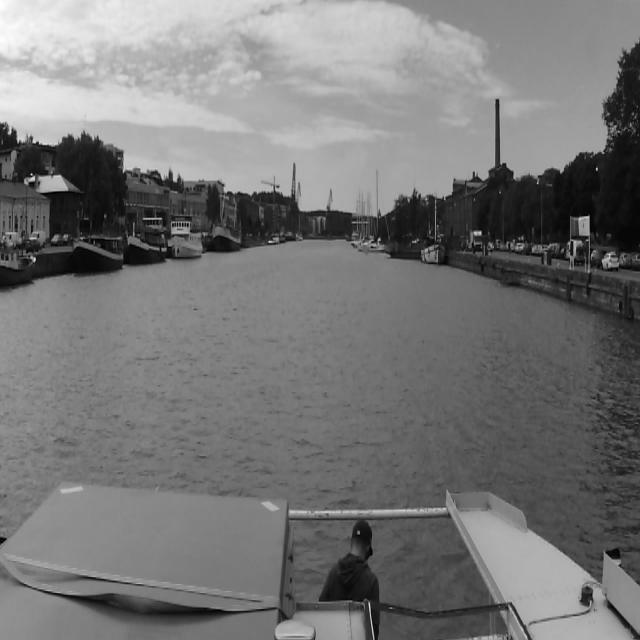ship: (359, 170, 385, 252), (72, 238, 122, 274), (125, 222, 167, 260), (171, 212, 203, 260), (420, 197, 442, 263), (5, 245, 37, 287), (213, 225, 241, 251), (392, 236, 416, 257)
